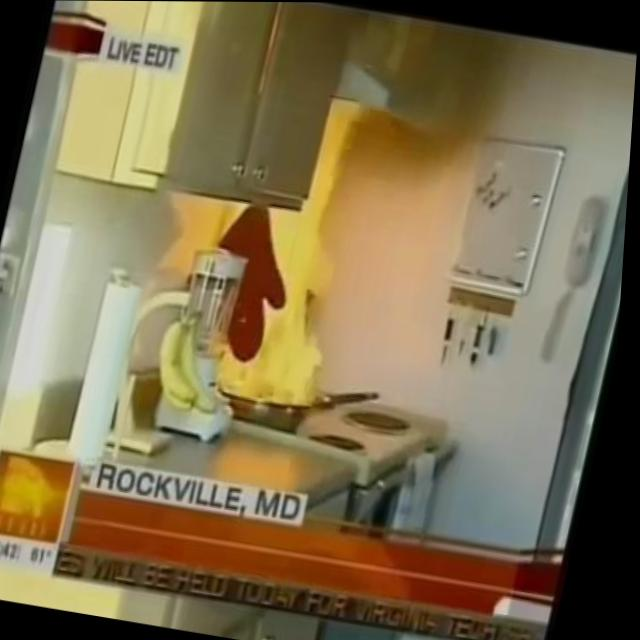fire: (187, 197, 371, 410), (309, 97, 387, 211)
